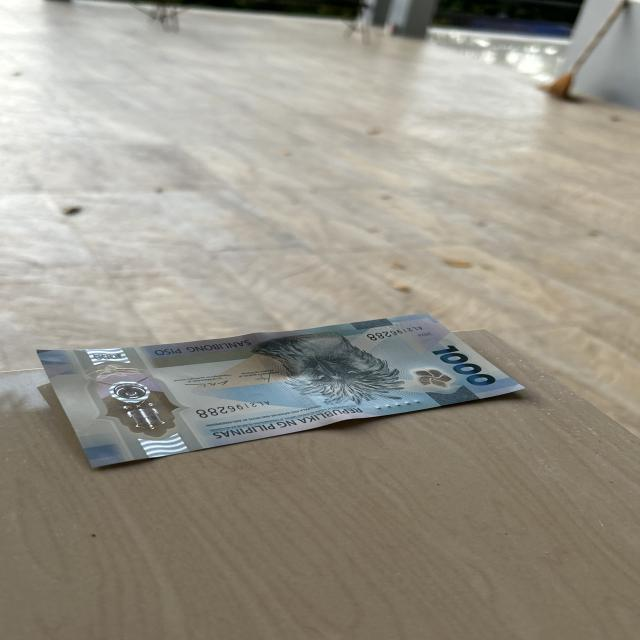clear_window: (89, 360, 184, 438)
eagle: (259, 335, 401, 407)
sampaguita: (412, 365, 453, 390)
